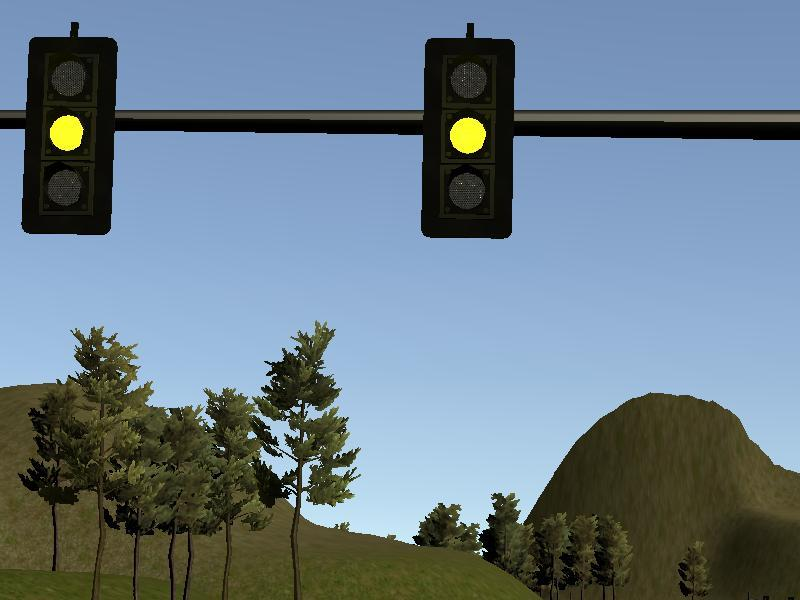Yellow: (20, 36, 119, 236), (421, 37, 516, 239)
